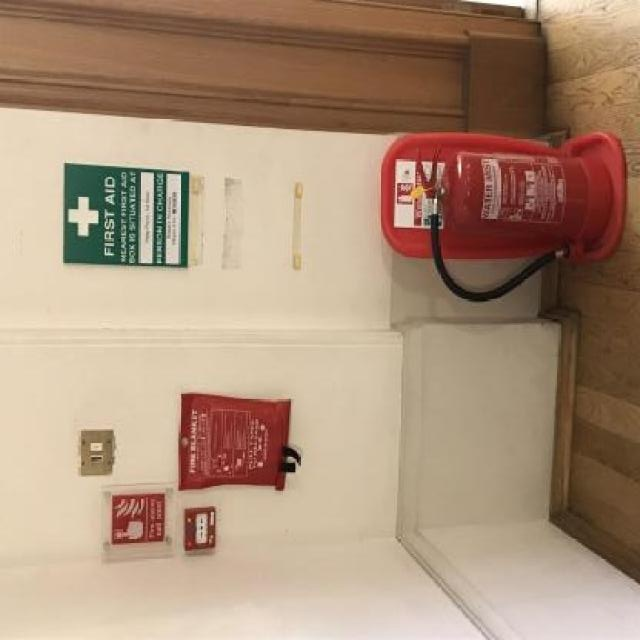fire extinguisher: (414, 143, 609, 305)
